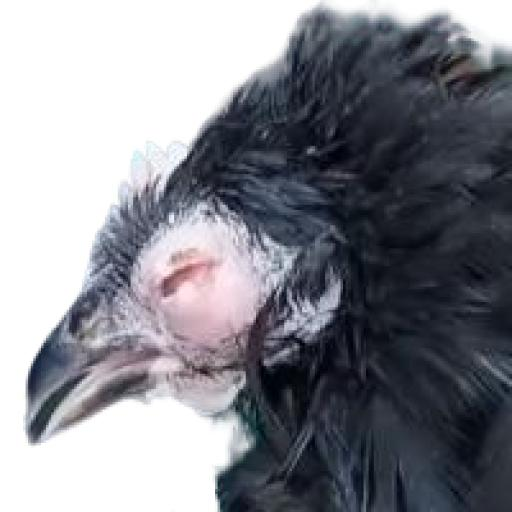disease: (144, 224, 261, 358)
